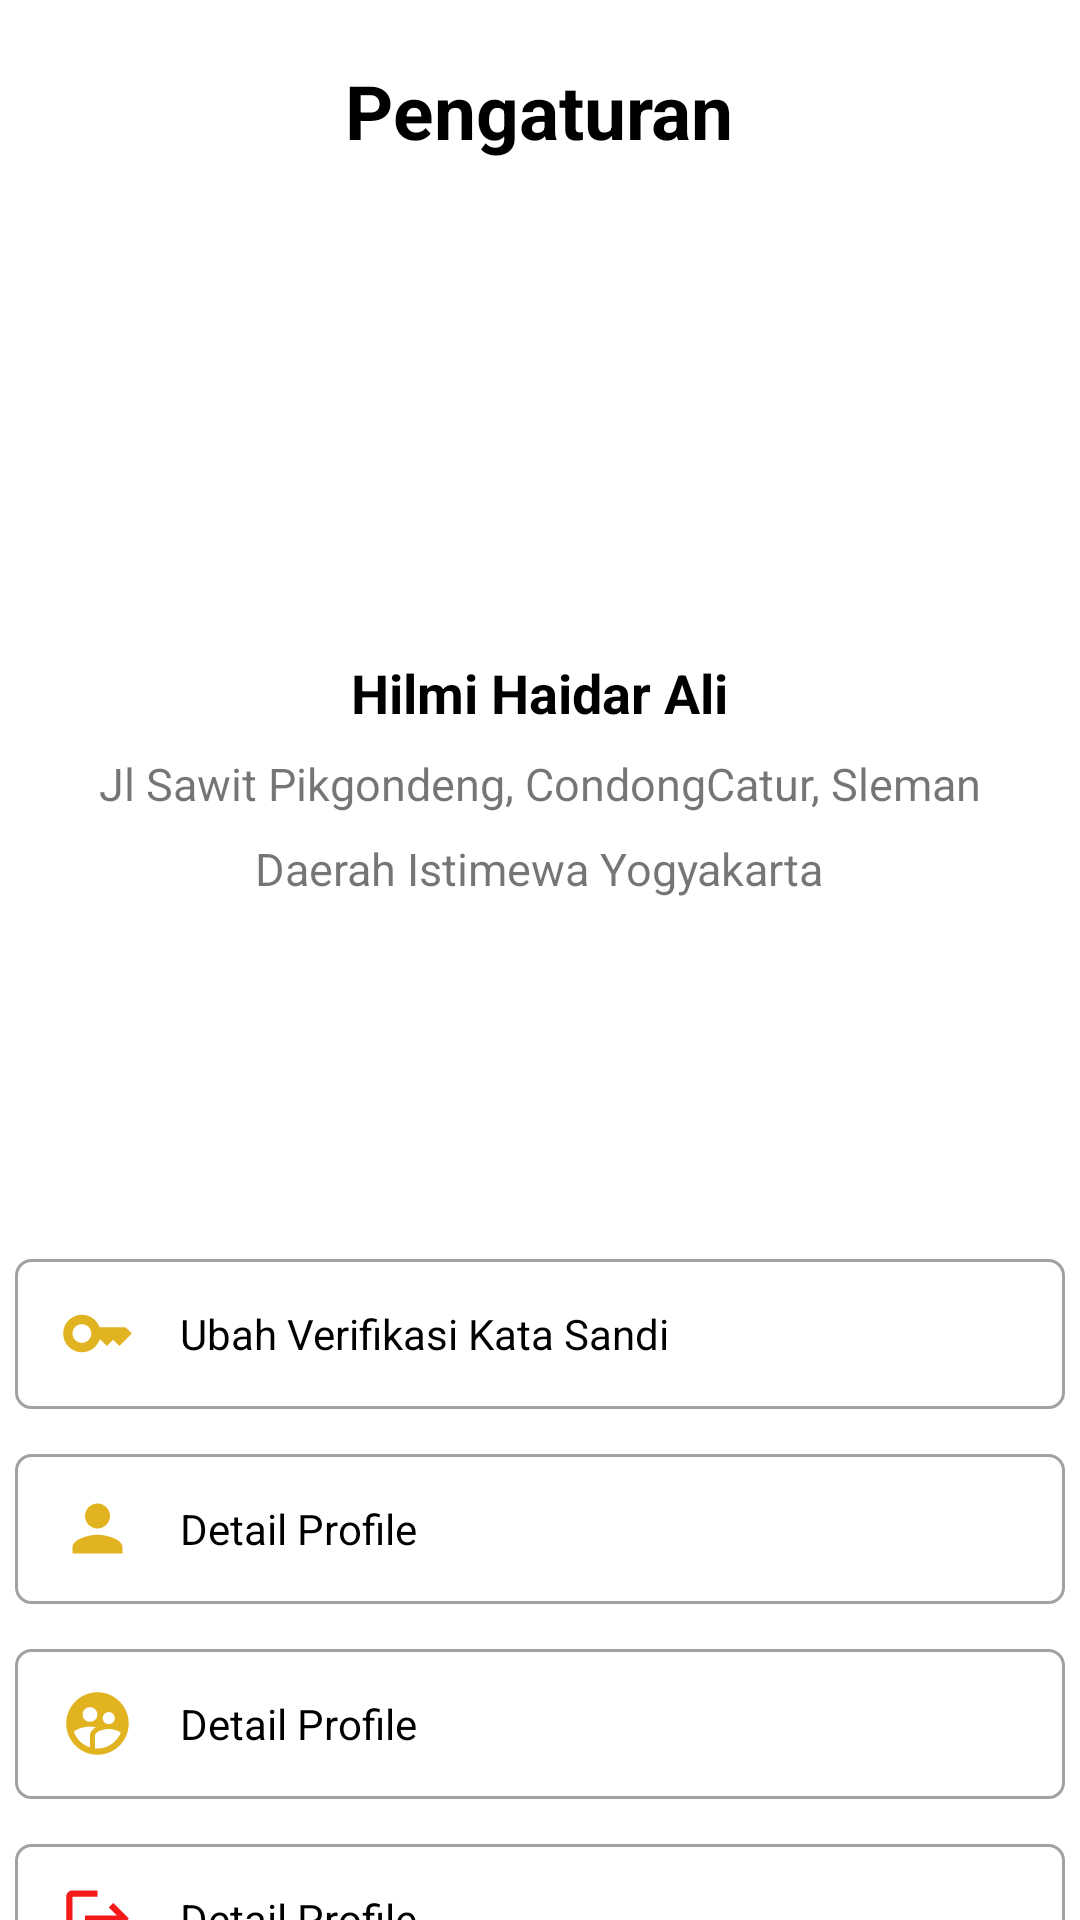

Icon click points for this 1080px x 1920px phone screenshot, format [x,y]:
key: [97,1333]
